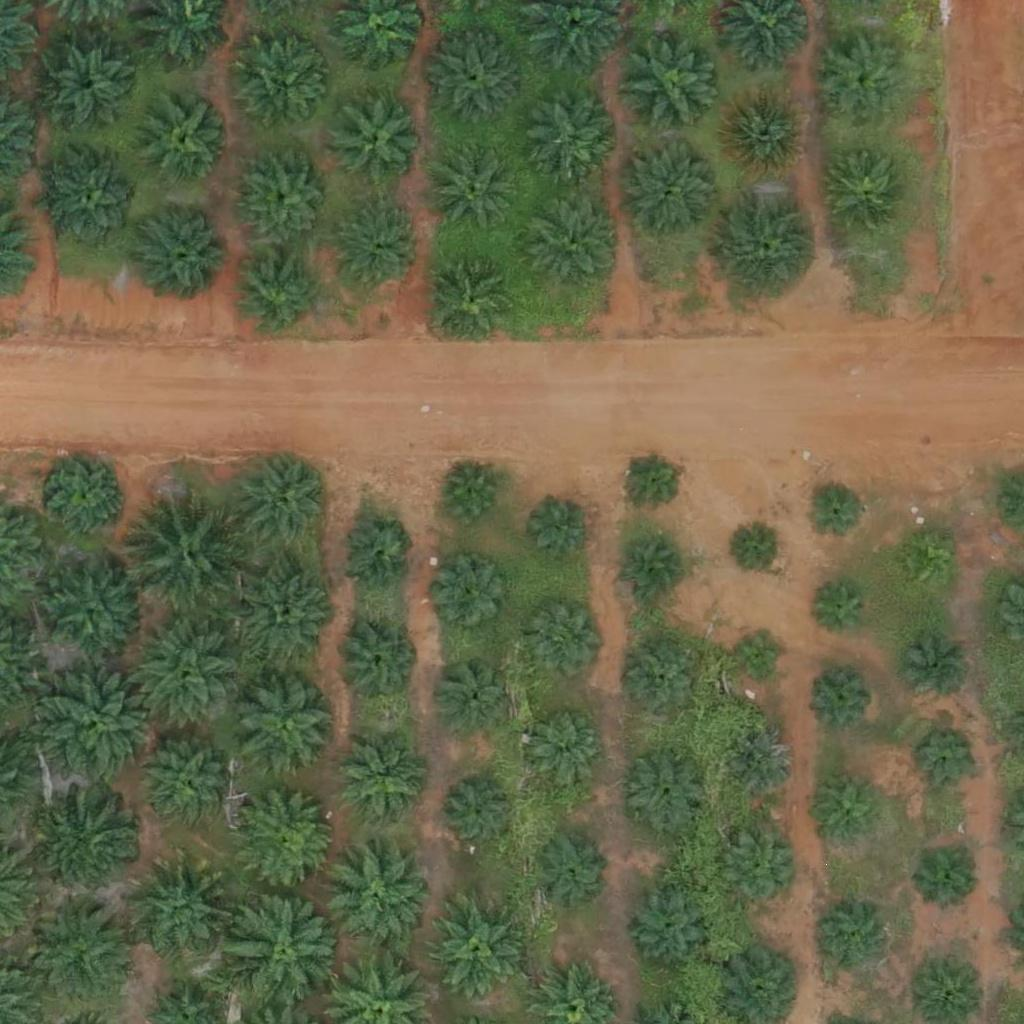Kelapa_Sawit: (36, 663, 161, 789), (127, 489, 252, 615), (123, 612, 248, 738), (225, 888, 350, 1014), (424, 30, 524, 131), (521, 188, 621, 289), (623, 36, 723, 137), (621, 140, 721, 241), (720, 194, 820, 295), (44, 791, 144, 892), (32, 896, 132, 997), (135, 859, 235, 960), (43, 151, 143, 251), (135, 202, 235, 302), (237, 148, 337, 248), (42, 560, 142, 660), (232, 452, 332, 552), (236, 568, 336, 668), (236, 675, 336, 775), (238, 792, 338, 892), (329, 848, 429, 948), (423, 899, 523, 999), (623, 746, 711, 834), (40, 43, 128, 131), (334, 98, 422, 186), (336, 204, 424, 292), (432, 144, 520, 232), (429, 254, 517, 342), (721, 88, 809, 176), (826, 151, 914, 239), (338, 738, 426, 826), (627, 886, 715, 974), (333, 617, 420, 705), (820, 40, 907, 128), (240, 44, 327, 132), (143, 94, 230, 182), (237, 251, 324, 339), (536, 91, 623, 179), (144, 742, 231, 830), (527, 708, 602, 784), (437, 656, 512, 732), (442, 775, 517, 851), (531, 831, 606, 907), (49, 457, 124, 533), (337, 517, 412, 593), (435, 559, 510, 634), (528, 601, 603, 676), (626, 645, 701, 720), (808, 905, 883, 980), (718, 831, 793, 906), (725, 730, 800, 805), (897, 635, 972, 710), (911, 725, 986, 800), (909, 839, 984, 914), (620, 449, 683, 512), (621, 538, 684, 601), (818, 778, 881, 841), (895, 533, 958, 596), (440, 465, 502, 528), (530, 498, 592, 561), (805, 480, 867, 543), (809, 580, 871, 643), (809, 667, 871, 730), (735, 524, 785, 575), (734, 630, 784, 681)
